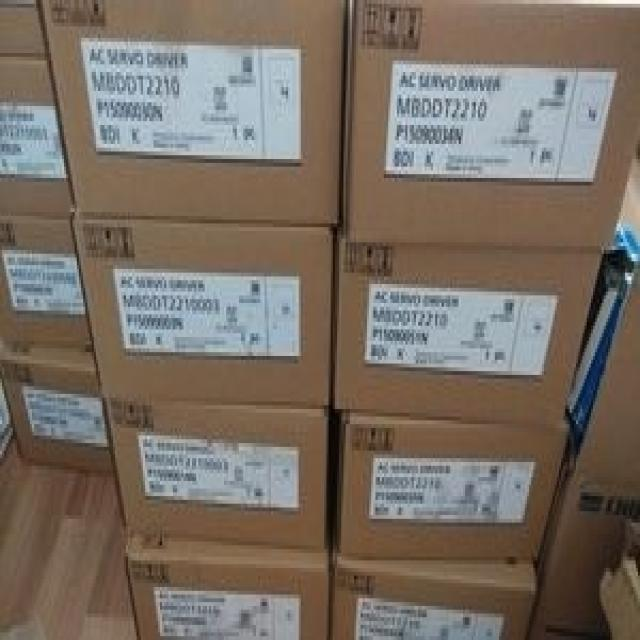box: (343, 4, 640, 250), (38, 0, 343, 227), (70, 216, 333, 409), (331, 235, 604, 420), (525, 269, 640, 640), (100, 398, 329, 549), (335, 413, 567, 560), (126, 538, 329, 640), (329, 553, 538, 640), (0, 345, 113, 473), (0, 216, 92, 348), (0, 57, 75, 216), (0, 0, 47, 57)
